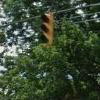Traffic light: (31, 10, 61, 54)
